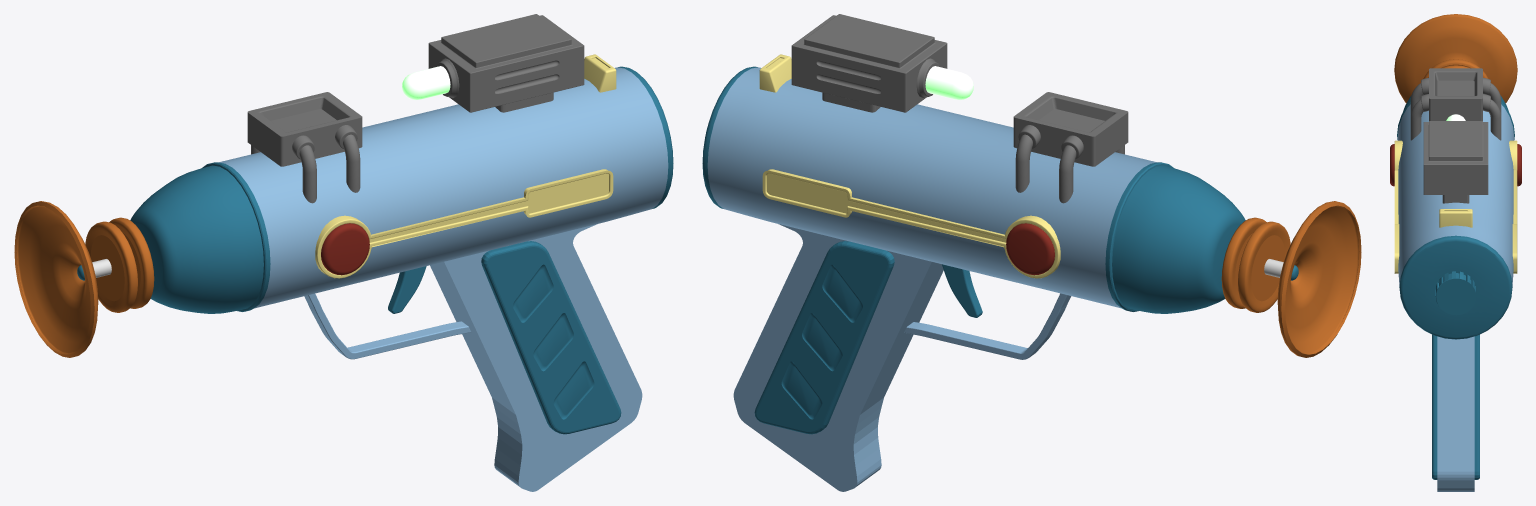
File: lazer.glb
3 views of the same model, side by side, from view 1: azimuth 30°, elevation 25°; view 2: azimuth 150°, elevation 25°; view 3: azimuth 270°, elevation 25° (orthographic). The views are drawn at different scales.
Visible parts, largest first — view 1: Cylinder_10, Plane_14, Plane.005_19, Cube_7, Circle_5, Circle.001_6, Cube.001_8, Cylinder.001_11, Plane.002_16, Cylinder.003_13, Plane.004_18, Plane.001_15 (+1 smaller); view 2: Cylinder_10, Plane_14, Plane.005_19, Cube_7, Circle_5, Circle.001_6, Cube.001_8, Cylinder.001_11, Plane.002_16, Cylinder.003_13, Plane.004_18, Plane.001_15 (+1 smaller); view 3: Cylinder_10, Circle_5, Plane_14, Cube_7, Cube.001_8, Circle.001_6, Plane.005_19, Plane.004_18, Cube.002_9, Cylinder.002_12, Cylinder.001_11.
Boxes of the visible parts, x1=… form: Cylinder_10: x1=77, y1=66, x2=673, y2=313; Plane_14: x1=430, y1=224, x2=642, y2=491; Plane.005_19: x1=481, y1=241, x2=621, y2=434; Cube_7: x1=428, y1=14, x2=584, y2=112; Circle_5: x1=14, y1=201, x2=98, y2=357; Circle.001_6: x1=315, y1=169, x2=613, y2=278; Cube.001_8: x1=247, y1=92, x2=362, y2=166; Cylinder.001_11: x1=85, y1=217, x2=154, y2=312; Plane.002_16: x1=304, y1=293, x2=470, y2=359; Cylinder.003_13: x1=402, y1=58, x2=459, y2=100; Plane.004_18: x1=251, y1=134, x2=360, y2=203; Plane.001_15: x1=388, y1=266, x2=426, y2=313; Cylinder_10: x1=702, y1=66, x2=1298, y2=313; Plane_14: x1=733, y1=224, x2=943, y2=491; Plane.005_19: x1=754, y1=241, x2=894, y2=434; Cube_7: x1=791, y1=14, x2=947, y2=112; Circle_5: x1=1277, y1=201, x2=1361, y2=357; Circle.001_6: x1=762, y1=169, x2=1060, y2=278; Cube.001_8: x1=1013, y1=92, x2=1128, y2=166; Cylinder.001_11: x1=1221, y1=217, x2=1290, y2=312; Plane.002_16: x1=904, y1=293, x2=1071, y2=359; Cylinder.003_13: x1=916, y1=58, x2=973, y2=100; Plane.004_18: x1=1015, y1=134, x2=1124, y2=203; Plane.001_15: x1=942, y1=264, x2=982, y2=317; Cylinder_10: x1=1397, y1=96, x2=1514, y2=339; Circle_5: x1=1394, y1=14, x2=1517, y2=103; Plane_14: x1=1437, y1=336, x2=1474, y2=491; Cube_7: x1=1423, y1=121, x2=1488, y2=203; Cube.001_8: x1=1429, y1=68, x2=1482, y2=120; Circle.001_6: x1=1390, y1=140, x2=1521, y2=273; Plane.005_19: x1=1432, y1=334, x2=1479, y2=479; Plane.004_18: x1=1410, y1=83, x2=1501, y2=140; Cube.002_9: x1=1439, y1=209, x2=1472, y2=227; Cylinder.002_12: x1=1421, y1=77, x2=1490, y2=111; Cylinder.001_11: x1=1423, y1=59, x2=1488, y2=78.
Bounding box in the file's own units: 4.88 × 3.46 × 1.2.
